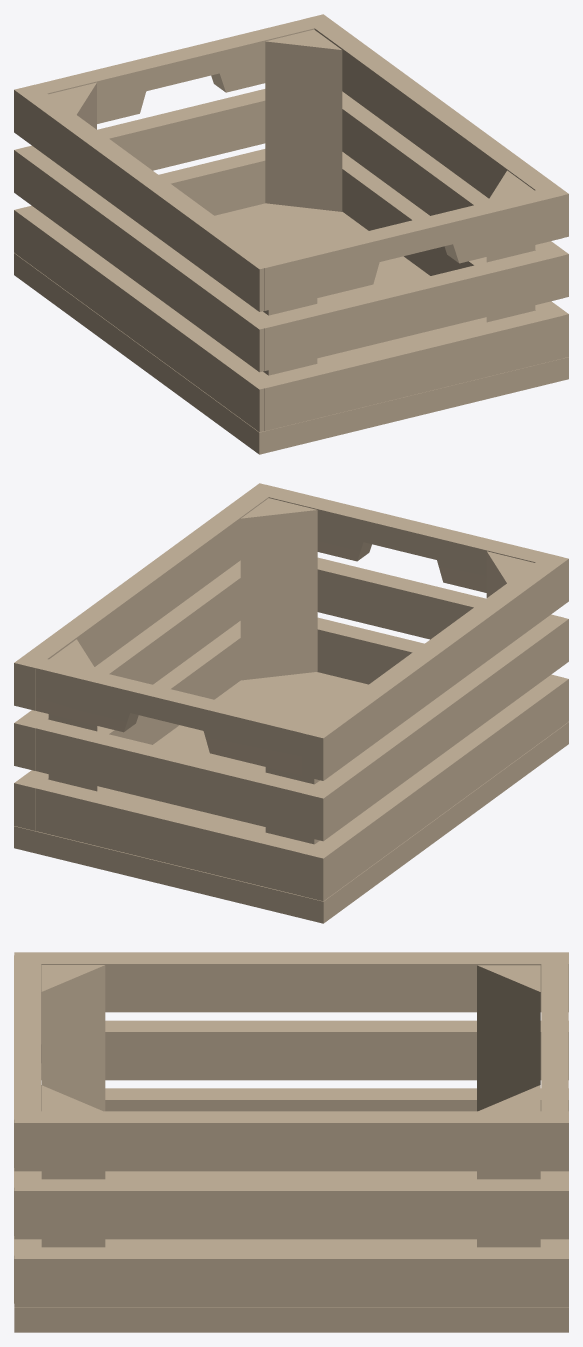
The model's file is cratesbox_textured.fbx.
The picture shows the model from 3 angles, top to bottom: view 1: azimuth 30°, elevation 25°; view 2: azimuth 150°, elevation 25°; view 3: azimuth 270°, elevation 25°; orthographic projection. The views are drawn at different scales.
Parts seen in each view (by area): view 1: cratesbox; view 2: cratesbox; view 3: cratesbox.
Boxes of the visible parts, left/top/right/bottom form: cratesbox: left=14, top=14, right=568, bottom=454; cratesbox: left=14, top=483, right=568, bottom=923; cratesbox: left=14, top=952, right=568, bottom=1332.
Bounding box in the file's own units: 8.51 × 4.87 × 11.7.
